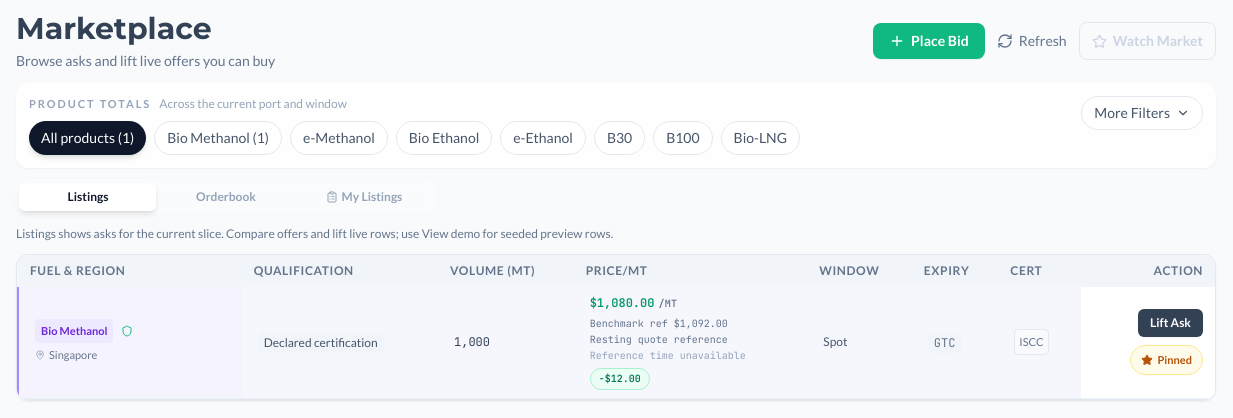
Marketplace green fuels surface › forces fresh listings and grouped counts when the user refreshes
The image size is (1233, 418).
Check: the button "Bio Methanol (1)" is shown, box [154, 120, 282, 154]
Click the button "Refresh" at (1032, 41), box [997, 31, 1067, 51]
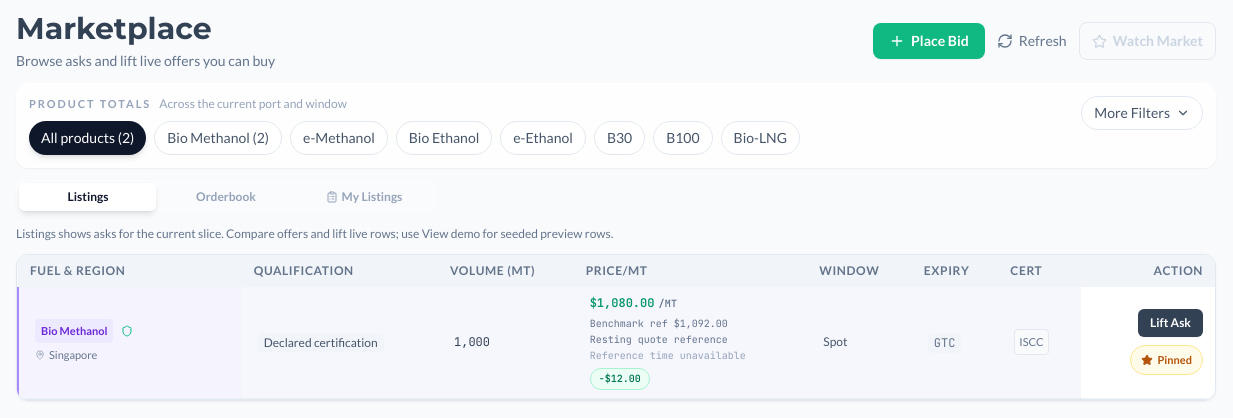
Check: the button "Bio Methanol (2)" is shown, box [154, 120, 282, 154]
